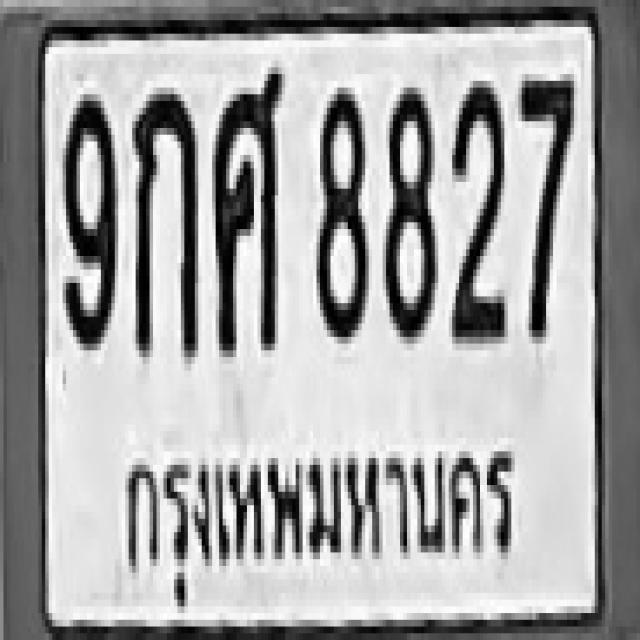10GorGai: (128, 88, 194, 350)
2: (449, 78, 504, 340)
47SorSala: (214, 64, 280, 347)
7: (518, 71, 570, 333)
8: (313, 81, 365, 337), (382, 81, 434, 337)
9: (59, 88, 115, 344)
Bangkok: (115, 428, 528, 615)
